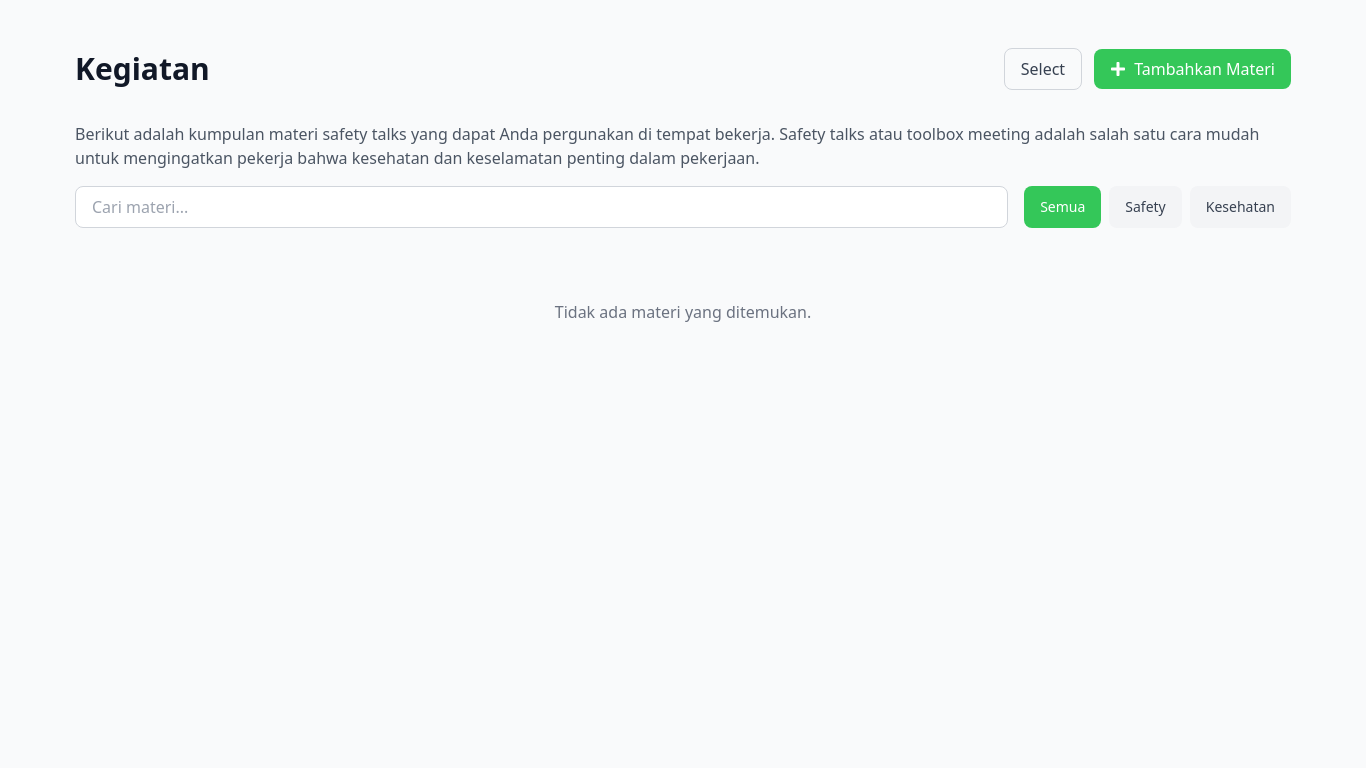
Kegiatan Component › should open add material modal
Click the button "Tambahkan Materi": (1193, 69) [1094,49,1291,89]
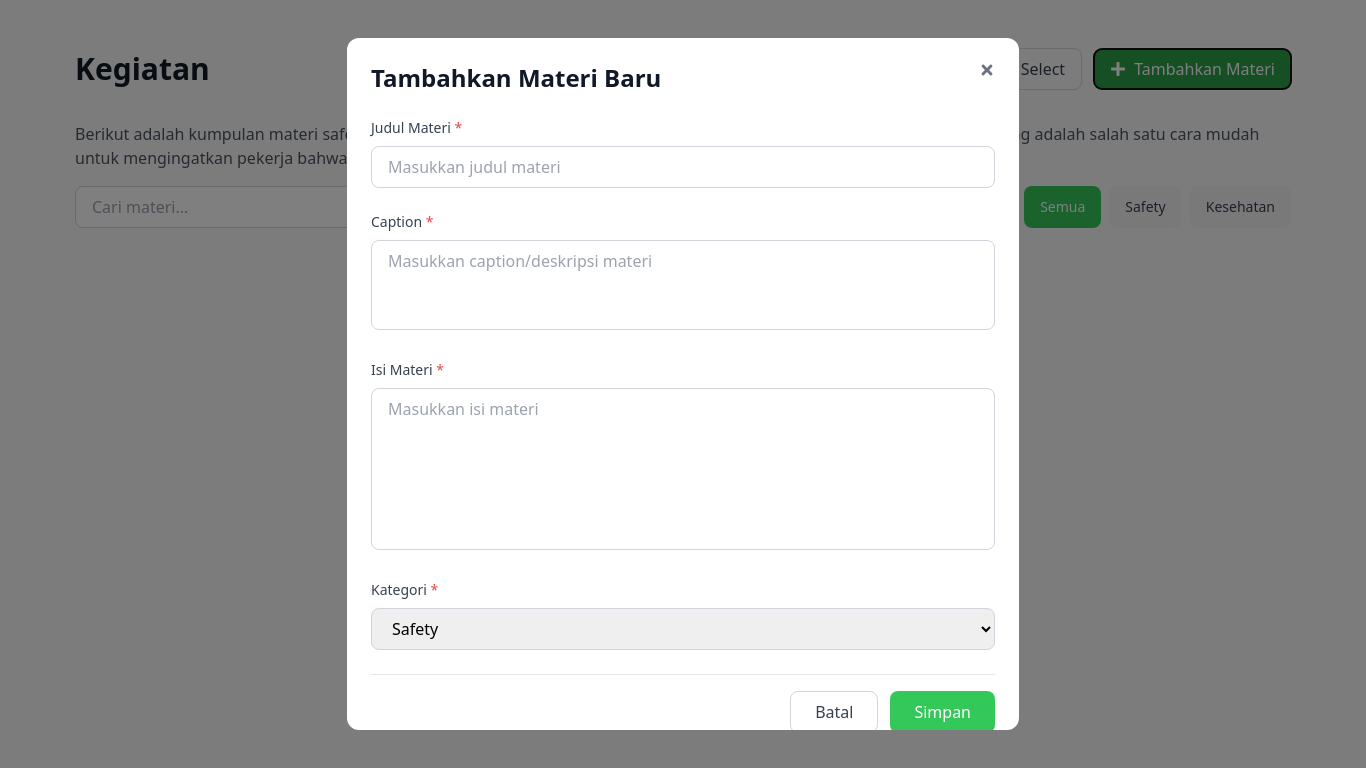
Now the heading "Tambahkan Materi Baru" is shown, box [371,62,661,94]
